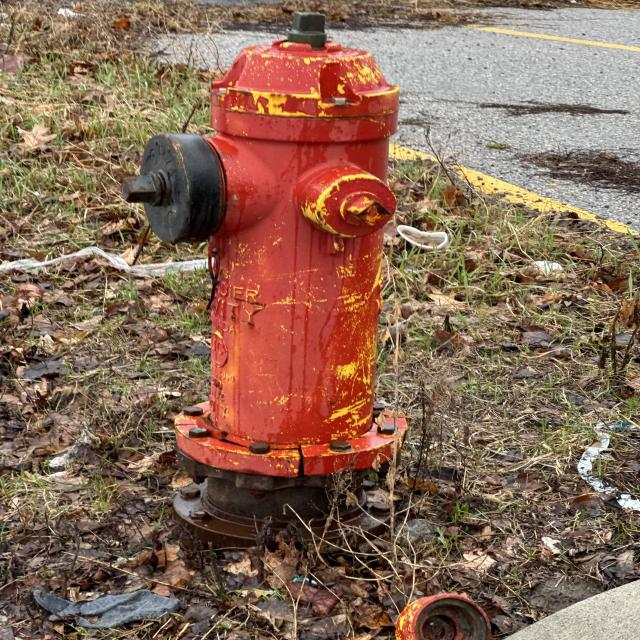Fire hydrant: (120, 11, 413, 479)
